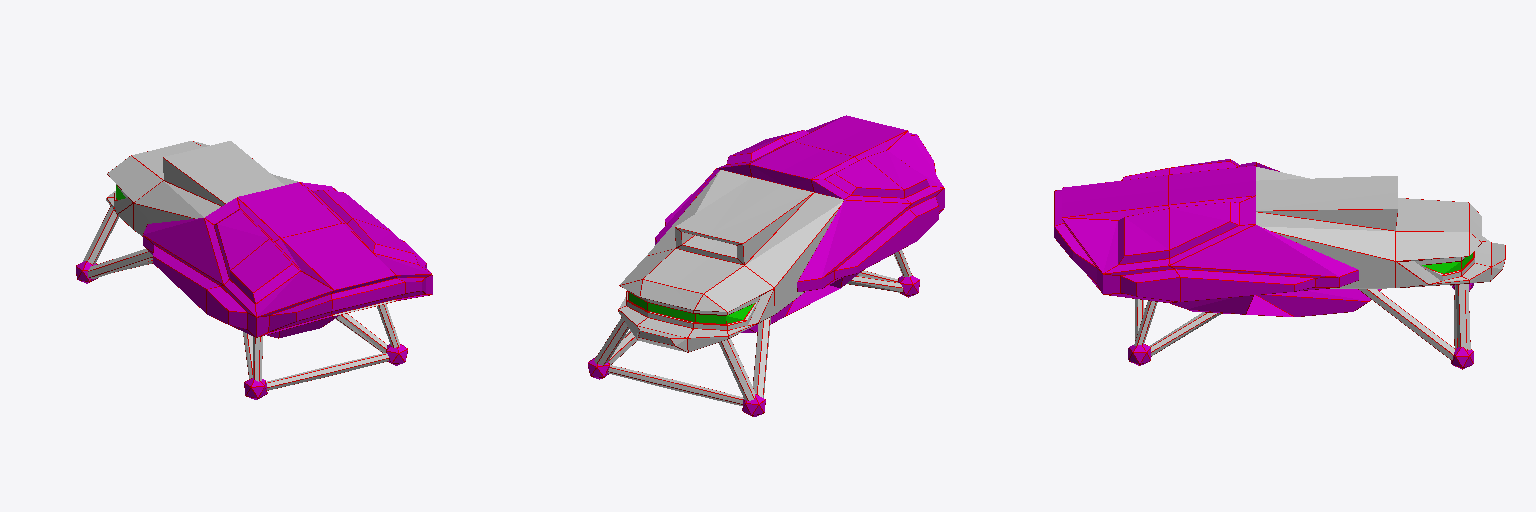
Rendered from big_foot_0_0.obj.
3 renders of one model, left to right at view 1: azimuth 30°, elevation 25°; view 2: azimuth 150°, elevation 25°; view 3: azimuth 270°, elevation 25°, orthographic.
Parts seen in each view (by area): view 1: Cube; view 2: Cube; view 3: Cube.
Part boxes in pixels (x1,y1,x2,y2): Cube: (76,141,432,399); Cube: (588,115,944,416); Cube: (1054,159,1505,369).
Bounding box in the file's own units: 3.71 × 2.69 × 7.3.